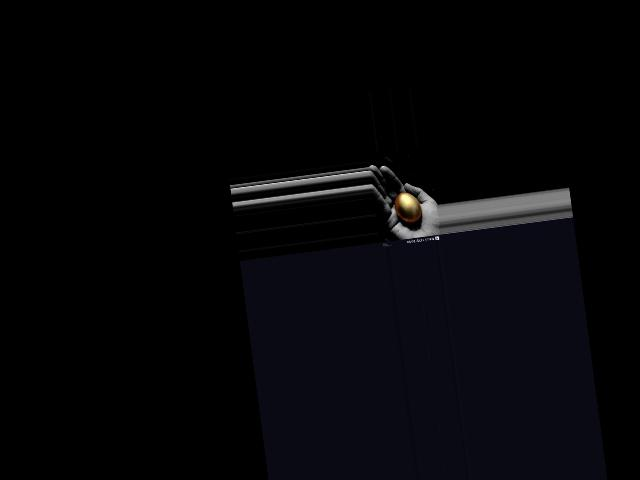egg: (392, 190, 422, 224)
